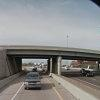Bridge: (5, 36, 92, 68)
